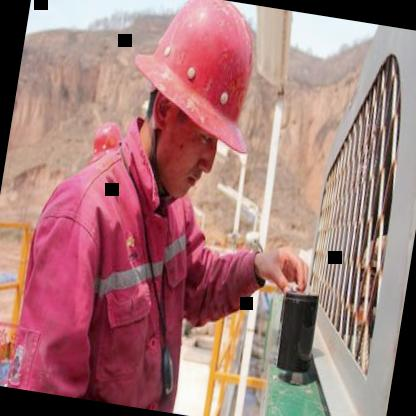helmet: (117, 0, 280, 213)
